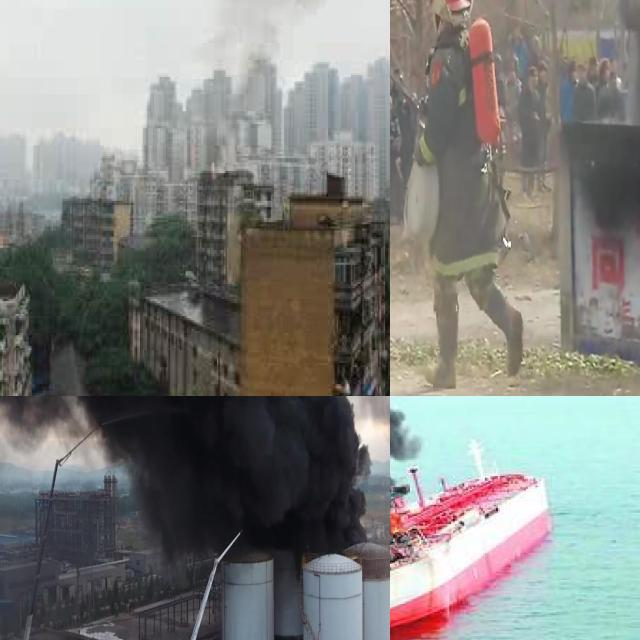smoke: (0, 396, 364, 563), (216, 0, 369, 53)
